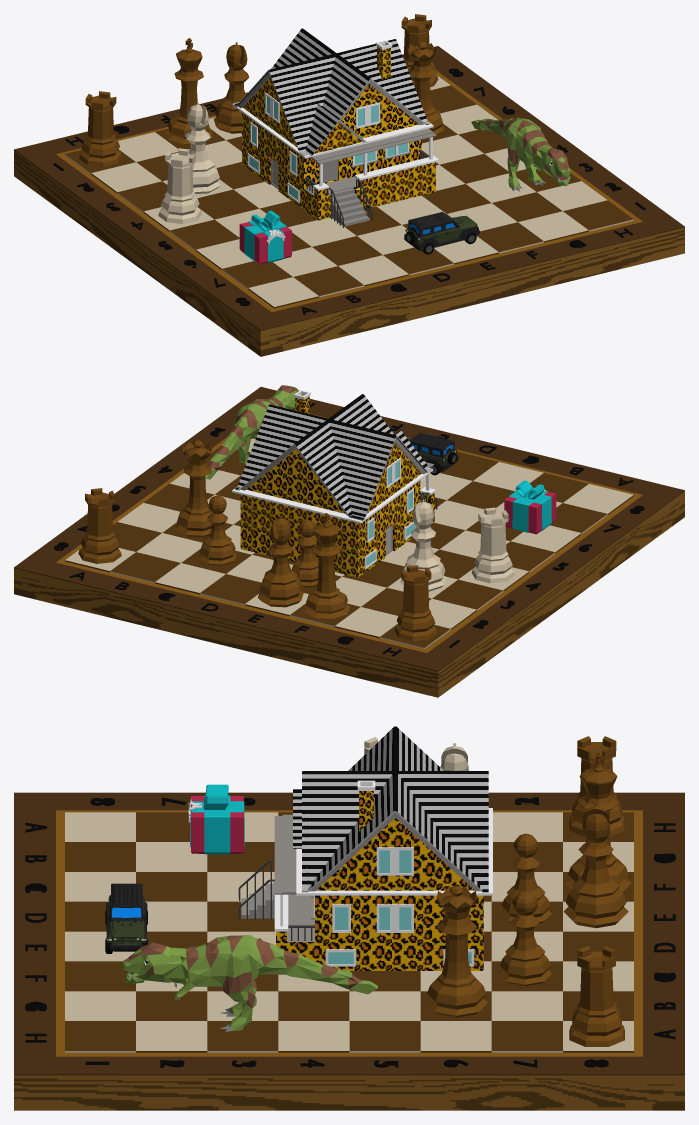
3 views of the same model, one above another, from view 1: azimuth 30°, elevation 25°; view 2: azimuth 150°, elevation 25°; view 3: azimuth 270°, elevation 25° (orthographic). The views are drawn at different scales.
Parts seen in each view (by area): view 1: Cube.002, Cube.637, ANIMAL_TREX, OBJRANDOM_GIANT_PRESENT, VEHICLES_JEEP; view 2: Cube.002, Cube.637, ANIMAL_TREX, OBJRANDOM_GIANT_PRESENT, VEHICLES_JEEP; view 3: Cube.002, Cube.637, ANIMAL_TREX, OBJRANDOM_GIANT_PRESENT, VEHICLES_JEEP.
Boxes of the visible parts, x1,y1,x2,y2 form: Cube.002: (14, 14, 684, 356); Cube.637: (232, 28, 438, 227); ANIMAL_TREX: (471, 117, 570, 191); OBJRANDOM_GIANT_PRESENT: (239, 210, 291, 264); VEHICLES_JEEP: (404, 212, 479, 254); Cube.002: (14, 387, 684, 697); Cube.637: (232, 390, 437, 577); ANIMAL_TREX: (205, 385, 298, 479); OBJRANDOM_GIANT_PRESENT: (504, 480, 556, 534); VEHICLES_JEEP: (407, 432, 458, 475); Cube.002: (14, 736, 684, 1110); Cube.637: (238, 726, 492, 970); ANIMAL_TREX: (122, 935, 377, 1031); OBJRANDOM_GIANT_PRESENT: (188, 784, 244, 854); VEHICLES_JEEP: (105, 883, 147, 953).
Bounding box in the file's own units: 3981 × 1500 × 4012.
Materials: 35 (3 with a texture image).
